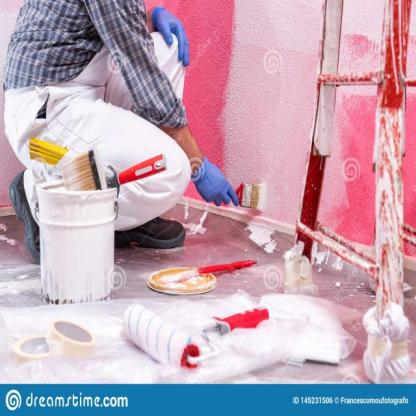bota: (8, 168, 41, 262), (115, 212, 189, 251)
